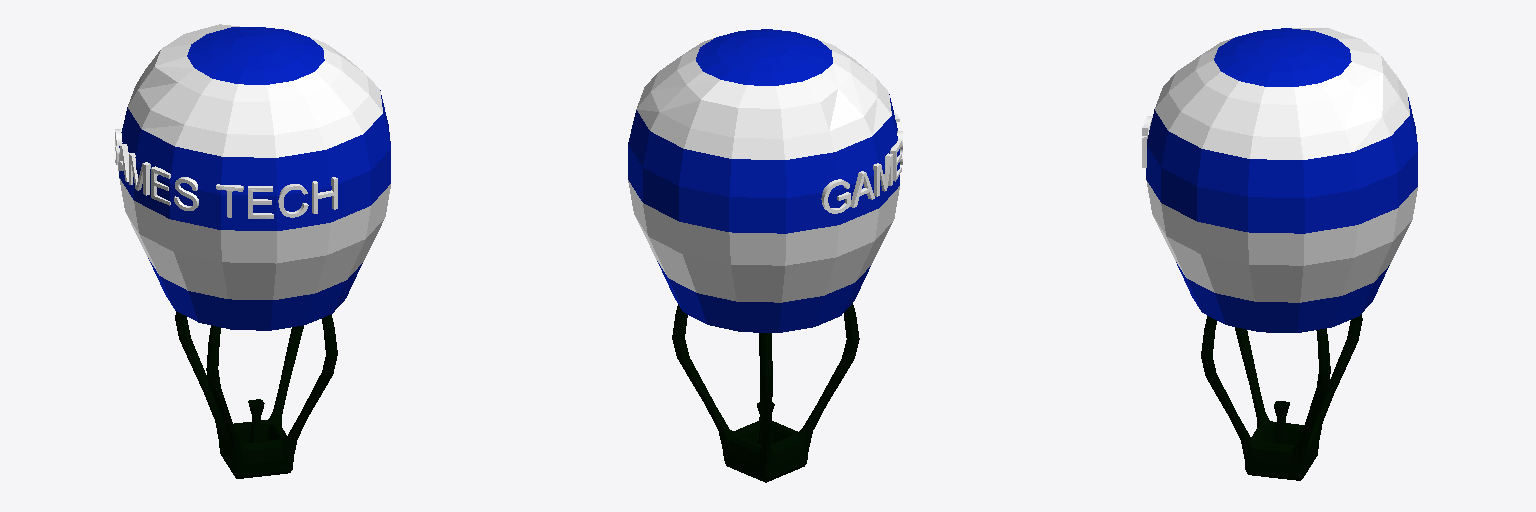
File: Baloon.obj
3 views of the same model, side by side, from view 1: azimuth 30°, elevation 25°; view 2: azimuth 150°, elevation 25°; view 3: azimuth 270°, elevation 25° (orthographic).
Visible parts, largest first — view 1: pSphere1, pCube1, Text001; view 2: pSphere1, pCube1, Text001; view 3: pSphere1, pCube1.
Boxes of the visible parts, box(x1,y1,x2,y2) form: pSphere1: box(119, 24, 390, 330); pCube1: box(175, 311, 337, 478); Text001: box(115, 129, 337, 218); pSphere1: box(628, 29, 899, 332); pCube1: box(672, 303, 859, 482); Text001: box(821, 112, 902, 213); pSphere1: box(1146, 28, 1417, 332); pCube1: box(1201, 314, 1362, 480).
Bounding box in the file's own units: 86.19 × 146 × 86.99.